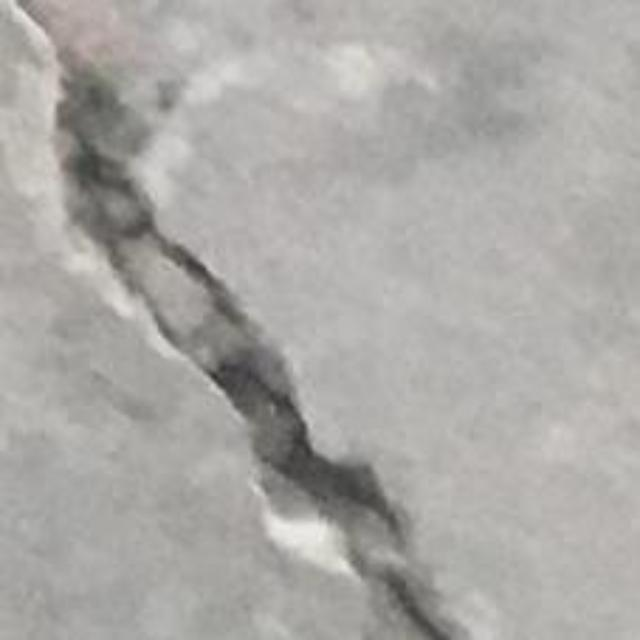crack: (54, 46, 459, 639)
